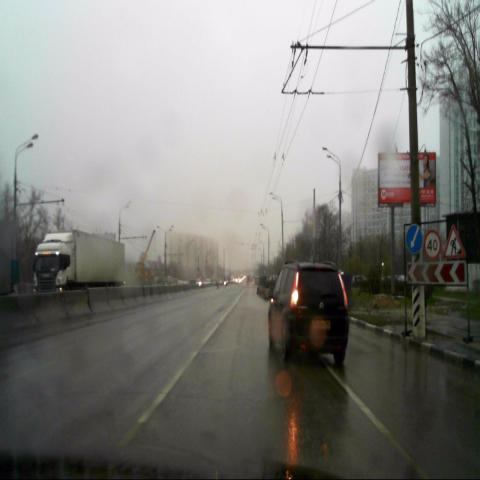4_2_2: (406, 225, 422, 253)
